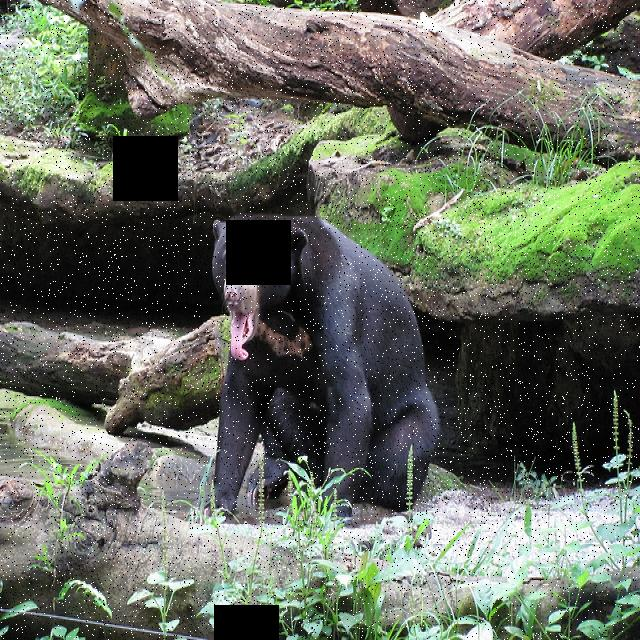Bear: (205, 202, 443, 524)
